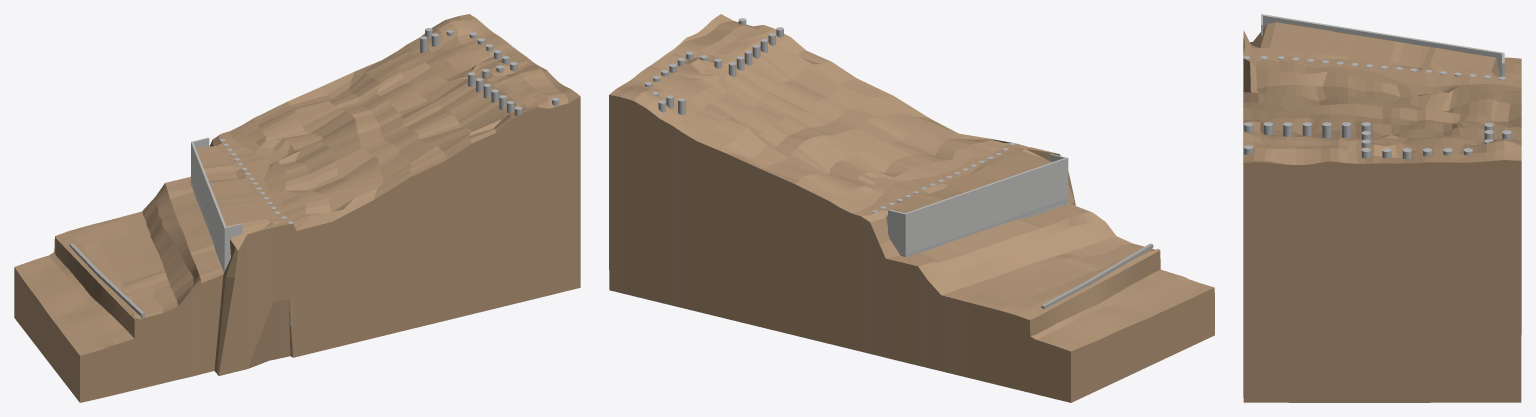
File: spw1.glb
The picture shows the model from 3 angles, left to right: view 1: azimuth 30°, elevation 25°; view 2: azimuth 150°, elevation 25°; view 3: azimuth 270°, elevation 25°; orthographic projection. The views are drawn at different scales.
Visible parts, largest first — view 1: Terrain 03 - SPW5 +6.001, RTW1.001, Cube.020; view 2: Terrain 03 - SPW5 +6.001, RTW1.001, Cube.020, Cube; view 3: Terrain 03 - SPW5 +6.001, RTW1.001.
Part boxes in pixels (x1,y1,x2,y2): Terrain 03 - SPW5 +6.001: [14, 14, 580, 402]; RTW1.001: [191, 137, 242, 272]; Cube.020: [69, 243, 144, 317]; Terrain 03 - SPW5 +6.001: [609, 14, 1214, 402]; RTW1.001: [888, 153, 1068, 254]; Cube.020: [1041, 243, 1153, 308]; Cube: [899, 198, 1068, 256]; Terrain 03 - SPW5 +6.001: [1243, 22, 1521, 402]; RTW1.001: [1261, 14, 1504, 76].
Bounding box in the file's own units: 45.79 × 17.39 × 17.83.
